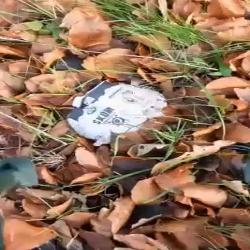Restaffald: (67, 80, 168, 146)
